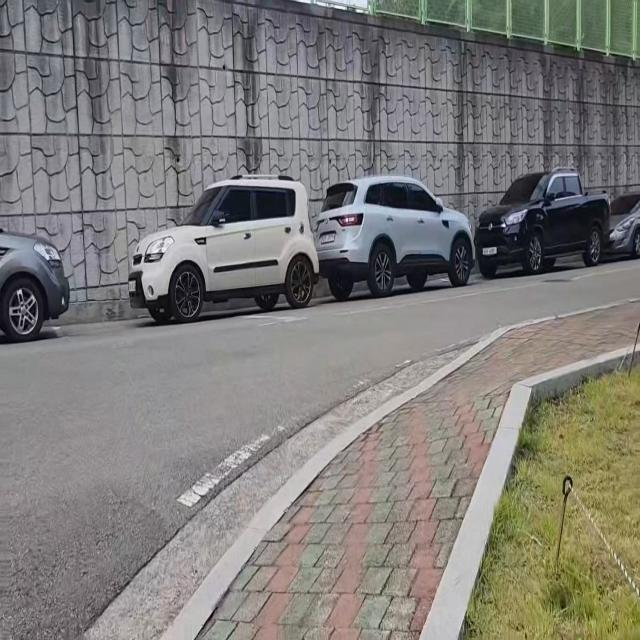obstacle: (0, 217, 79, 351), (550, 473, 575, 578)
sidewalk: (171, 296, 640, 640)
